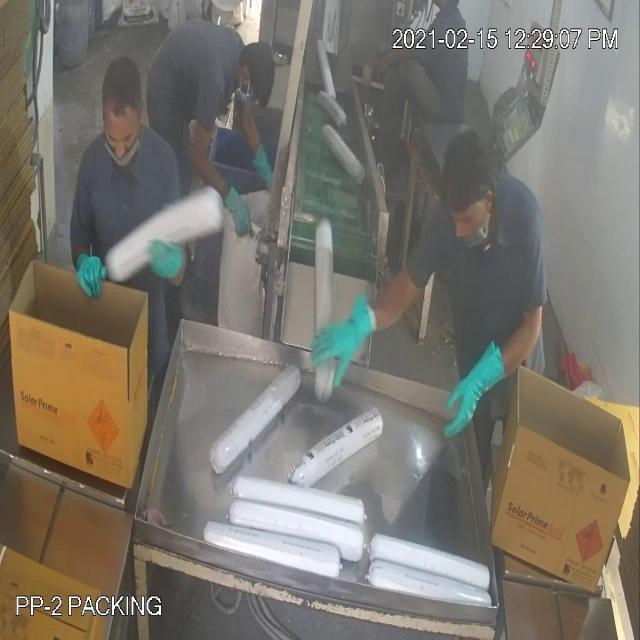gloves: (439, 325, 509, 457), (304, 287, 386, 392), (68, 236, 120, 310), (222, 176, 266, 254), (140, 223, 192, 289), (249, 138, 281, 193)
no-gloves: (190, 119, 232, 190), (367, 33, 427, 82)
